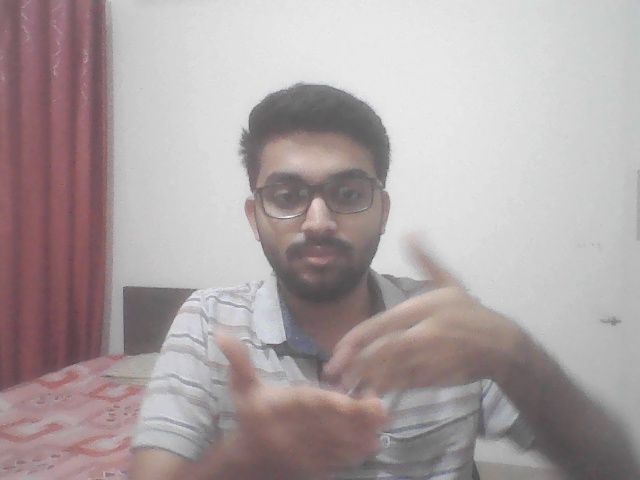again: (202, 224, 500, 471)
